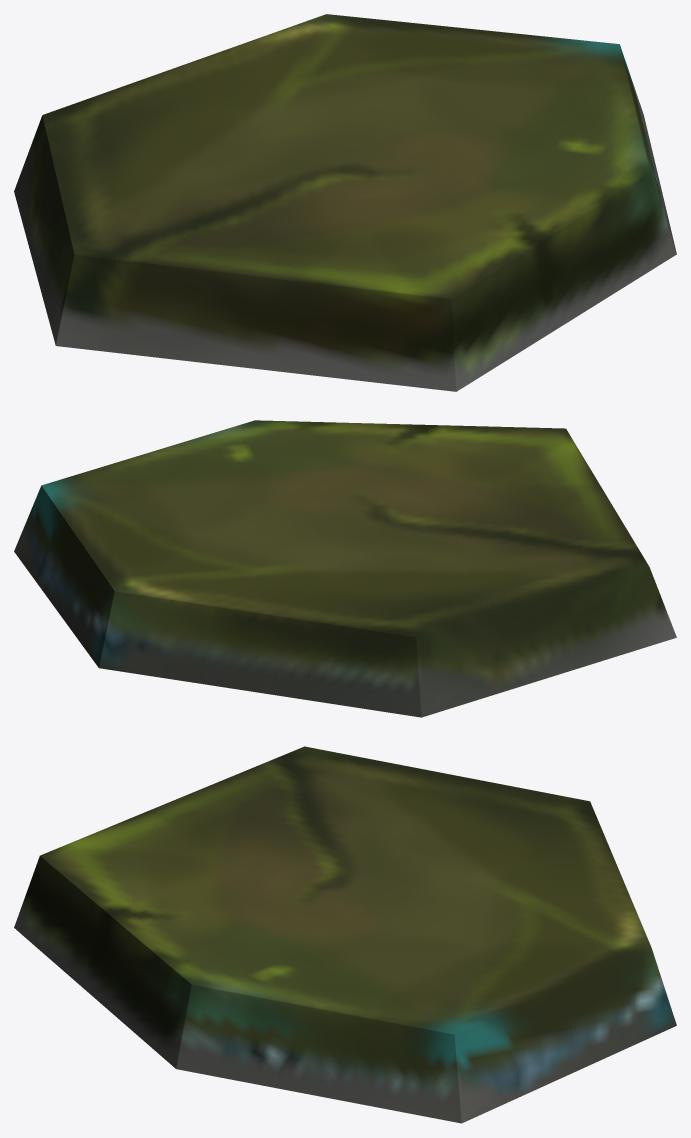
File: Swamp_shikuai02.FBX
The picture shows the model from 3 angles, top to bottom: view 1: azimuth 30°, elevation 25°; view 2: azimuth 150°, elevation 25°; view 3: azimuth 270°, elevation 25°; orthographic projection. The views are drawn at different scales.
Visible parts, largest first — view 1: shikuai02; view 2: shikuai02; view 3: shikuai02.
Part boxes in pixels (left/top/right/bottom): shikuai02: left=14, top=14, right=676, bottom=391; shikuai02: left=14, top=420, right=676, bottom=717; shikuai02: left=14, top=746, right=676, bottom=1123.
Bounding box in the file's own units: 81.09 × 9.2 × 72.68.
